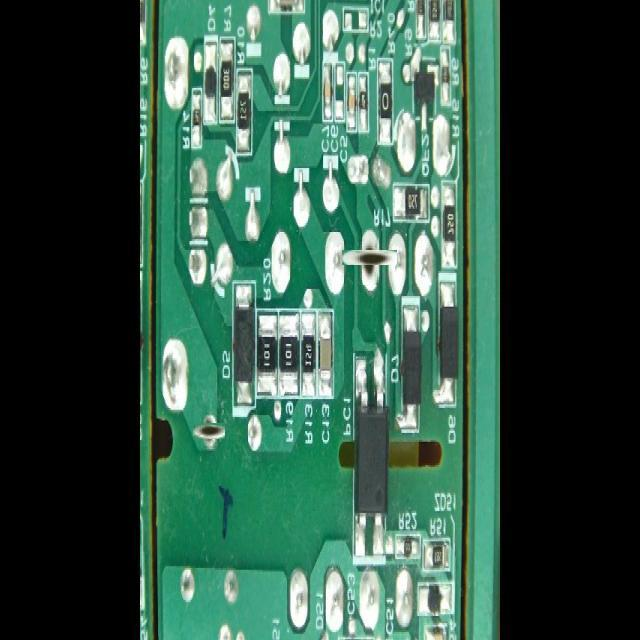damged: (352, 240, 388, 275), (197, 419, 221, 444)
